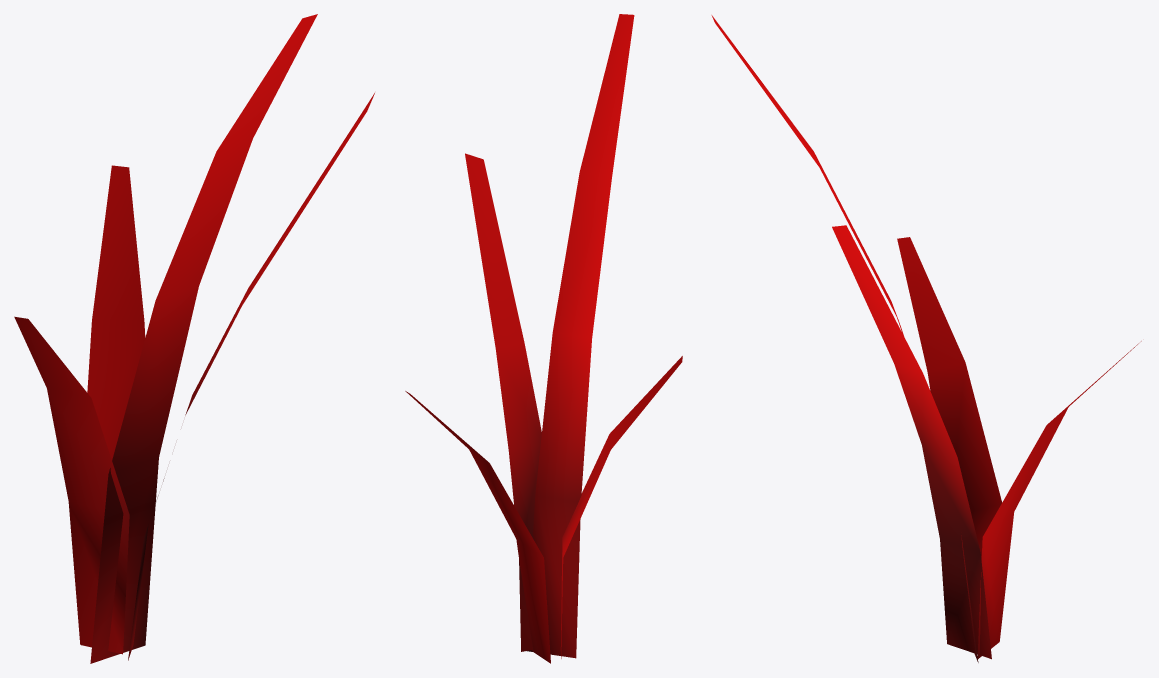
Rendered from SM_SugarCanePlants_1.fbx.
The picture shows the model from 3 angles, left to right: view 1: azimuth 30°, elevation 25°; view 2: azimuth 150°, elevation 25°; view 3: azimuth 270°, elevation 25°; orthographic projection. The views are drawn at different scales.
Visible parts, largest first — view 1: SM_SugarCanePlants_1; view 2: SM_SugarCanePlants_1; view 3: SM_SugarCanePlants_1.
Boxes of the visible parts, x1,y1,x2,y2 form: SM_SugarCanePlants_1: (14,14,374,663); SM_SugarCanePlants_1: (405,14,682,663); SM_SugarCanePlants_1: (711,15,1141,662).
Bounding box in the file's own units: 0.2027 × 0.4374 × 0.2635.
